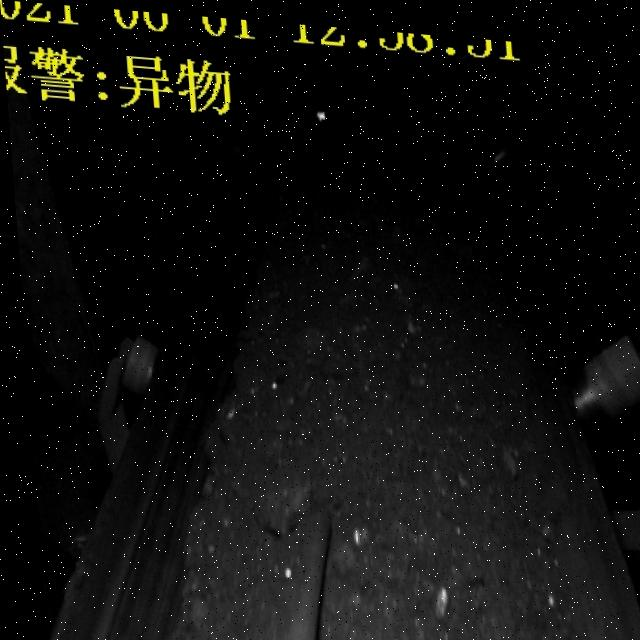bolt: (256, 500, 333, 640)
